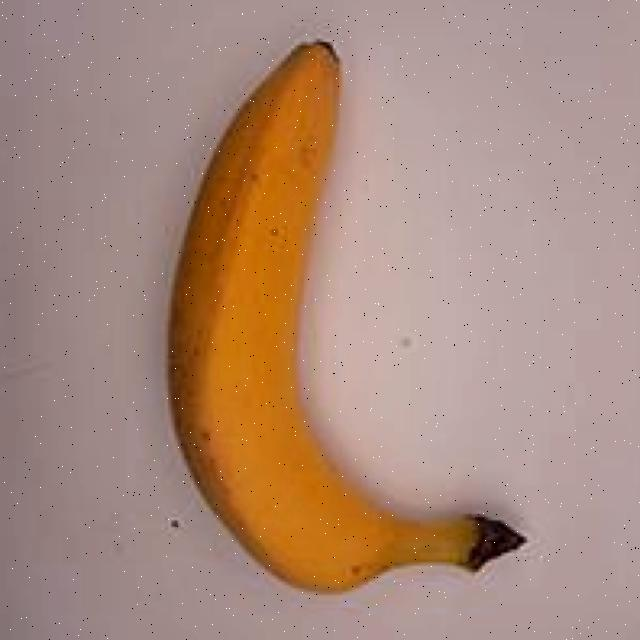Ripe: (112, 1, 546, 619)
